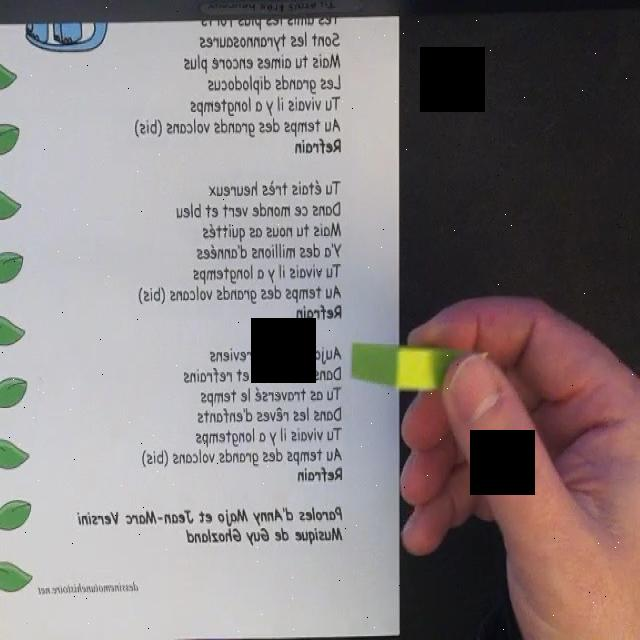square: (350, 344, 470, 391)
